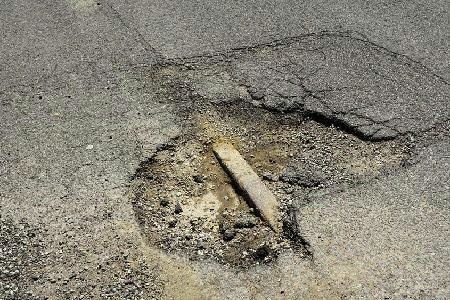pothole: (123, 94, 416, 274)
